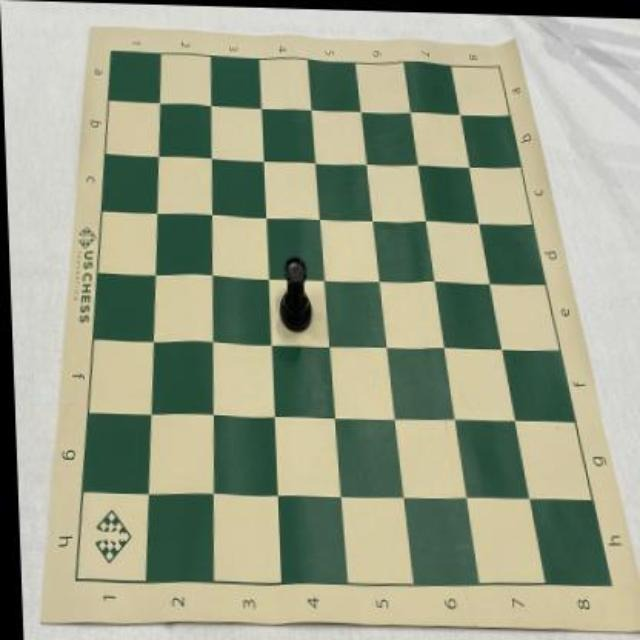black-rook: (275, 252, 311, 333)
